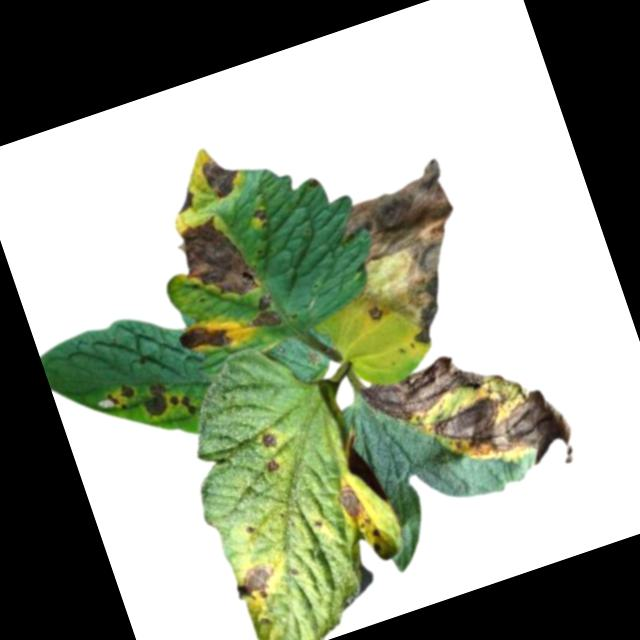Early_blight: (324, 156, 495, 363), (420, 374, 584, 504), (357, 338, 508, 436), (171, 206, 265, 310), (177, 314, 236, 365), (196, 150, 248, 205), (231, 558, 283, 611), (330, 481, 370, 527), (243, 290, 285, 333), (137, 380, 173, 422), (103, 380, 139, 413), (169, 185, 200, 219), (169, 390, 199, 425), (247, 203, 271, 231), (260, 455, 285, 478), (260, 429, 281, 453)
